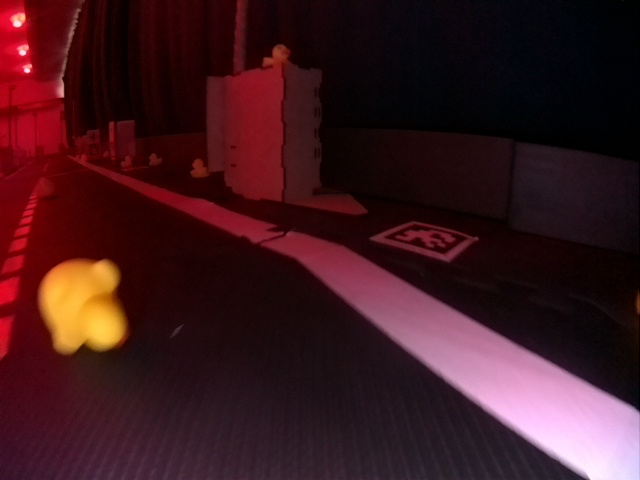Duckie: (38, 260, 123, 352), (264, 44, 289, 67)
QR code: (370, 222, 477, 260)
